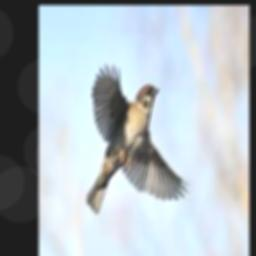Sparrow: (87, 62, 190, 215)
